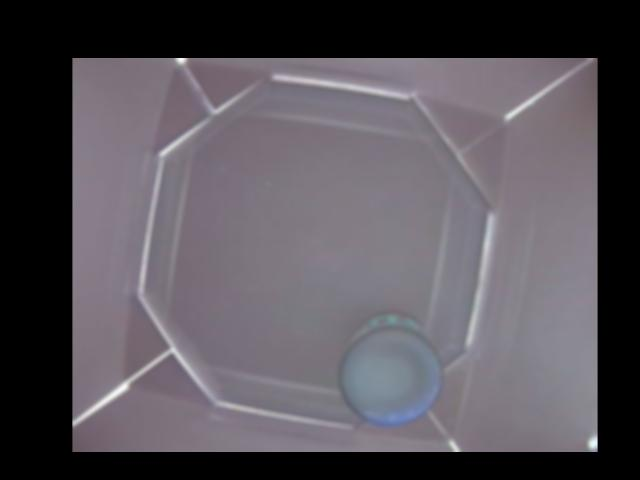Bottle: (337, 313, 444, 426)
